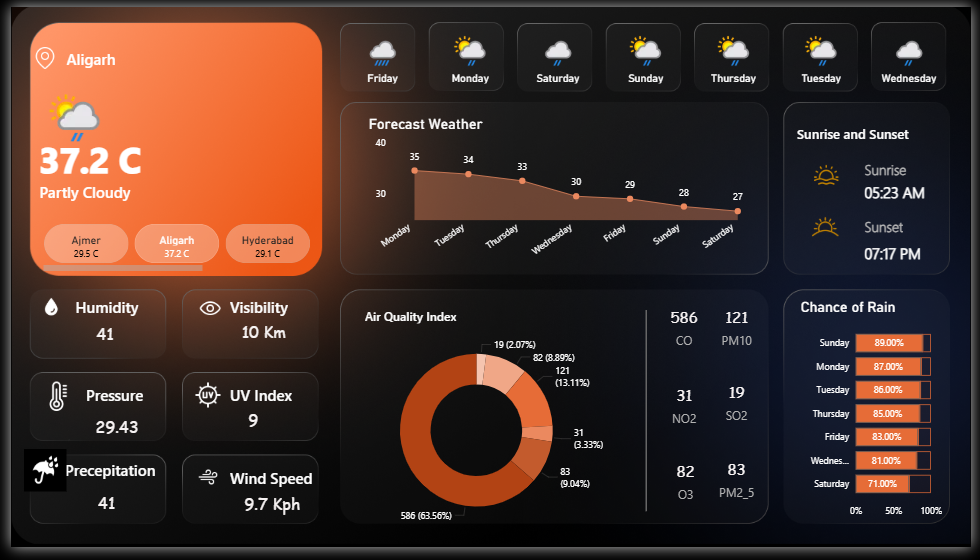

The page's visual inventory and layout, read from the dashboard file:
{"tool":"powerbi","page":{"name":"Page 1","canvas":[1280,720],"ordinal":0},"visuals":[{"type":"advancedSlicerVisual","fields":{"Values":["Locations.location.name"]},"box":[37.8,283.5,366.6,75.6],"z":0},{"type":"shape","box":[38.3,147,225.3,110.2],"z":1000},{"type":"shape","box":[38.3,215.7,365.9,60.7],"z":2000},{"type":"shape","box":[73.3,46.7,161.7,46.7],"z":3000},{"type":"image","box":[17.6,47.9,54.3,39.9],"z":4000},{"type":"cardVisual","fields":{"Data":["Min(current.current.condition.icon)"]},"box":[28.8,87.9,113.4,113.4],"z":5000},{"type":"image","box":[71.9,549.6,11.2,54.3],"z":6000},{"type":"image","box":[36.7,378.6,35.1,43.1],"z":7000},{"type":"image","box":[231.7,608.7,60.7,36.7],"z":8000},{"type":"image","box":[231.7,493.7,60.7,46.3],"z":9000},{"type":"shape","box":[86.3,375.5,161.4,46.3],"z":10000},{"type":"shape","box":[292.4,375.5,161.4,46.3],"z":11000},{"type":"shape","box":[100.7,493.7,161.4,46.3],"z":12000},{"type":"shape","box":[292.4,493.7,161.4,46.3],"z":13000},{"type":"shape","box":[71.9,594.3,161.4,46.3],"z":14000},{"type":"shape","box":[292.4,603.9,161.4,46.3],"z":15000},{"type":"image","box":[244.4,377.1,43.1,47.9],"z":16000},{"type":"card","fields":{"Values":["Sum(current.current.humidity)"]},"box":[86.3,402.6,78.3,68.7],"z":17000},{"type":"card","fields":{"Values":["measure.Visibility"]},"box":[287.6,399.4,97.5,68.7],"z":18000},{"type":"card","fields":{"Values":["Sum(current.current.pressure_in)"]},"box":[102.3,525.6,78.3,68.7],"z":19000},{"type":"card","fields":{"Values":["Sum(current.current.uv)"]},"box":[274.3,526,96.8,50],"z":20000},{"type":"card","fields":{"Values":["Sum(current.current.humidity)"]},"box":[87.9,627.9,78.3,68.7],"z":21000},{"type":"card","fields":{"Values":["measure.Wind_Speed"]},"box":[292.4,635.9,111.8,54.3],"z":22000},{"type":"image","box":[38.3,493.7,49.5,49.5],"z":23000},{"type":"advancedSlicerVisual","fields":{"Values":["forecast_day.Day_Name"]},"box":[436.7,26.7,826.7,116.7],"z":24000},{"type":"shape","box":[1048.1,147,206.1,46.3],"z":25000},{"type":"image","box":[1062.5,202.9,49.5,43.1],"z":26000},{"type":"image","box":[1048.1,263.6,75.1,57.5],"z":27000},{"type":"shape","box":[1137.5,271.6,108.6,39.9],"z":28000},{"type":"shape","box":[1137.5,199.7,108.6,32],"z":29000},{"type":"lineChart","title":"Forecast Weather","fields":{"Y":["Sum(forecast_day.forecast.forecastday.day.avgtemp_c)"],"Category":["forecast_day.Day_Name"]},"box":[472.5,143.8,530.4,199.8],"z":30000},{"type":"hundredPercentStackedBarChart","title":"Chance of Rain","fields":{"Y":["Sum(forecast_day.forecast.forecastday.day.daily_chance_of_rain)","current.Left_value_rain"],"Category":["forecast_day.Day_Name"]},"box":[1048.1,388.2,198.1,302],"z":31000},{"type":"shape","box":[1137.5,230.1,108.6,32],"z":32000},{"type":"shape","box":[1137.5,311.5,108.6,32],"z":33000},{"type":"shape","box":[472.9,388.2,206.1,46.3],"z":34000},{"type":"card","fields":{"Values":["Sum(current.current.air_quality.co)"]},"box":[848.3,391.7,98.3,68.3],"z":35000},{"type":"card","fields":{"Values":["Sum(current.current.air_quality.no2)"]},"box":[848.3,493.3,98.3,70],"z":36000},{"type":"card","fields":{"Values":["Sum(current.current.air_quality.o3)"]},"box":[850,595,98.3,70],"z":37000},{"type":"card","fields":{"Values":["Sum(current.current.air_quality.pm10)"]},"box":[918.3,391.7,98.3,68.3],"z":38000},{"type":"card","fields":{"Values":["Sum(current.current.air_quality.so2)"]},"box":[918.3,490,98.3,70],"z":39000},{"type":"card","fields":{"Values":["Sum(current.current.air_quality.pm2_5)"]},"box":[918.3,593.3,98.3,68.3],"z":40000},{"type":"shape","box":[581.7,403.3,530,268.3],"z":41000},{"type":"donutChart","fields":{"Y":["Sum(current.current.air_quality.so2)","Sum(current.current.air_quality.o3)","Sum(current.current.air_quality.pm10)","Sum(current.current.air_quality.no2)","Sum(current.current.air_quality.pm2_5)","Sum(current.current.air_quality.co)"]},"box":[436.7,413.3,368.3,300],"z":42000},{"type":"image","box":[11.2,581.6,67.1,71.9],"z":43000}]}

Visuals, with their boxes in screenshot pixels (x1, y1, x2, y2), scaled from the page's 1280x720 canvas onto the 980x560 screenshot:
advancedSlicerVisual - Locations.location.name: [29, 220, 310, 279]
shape: [29, 114, 202, 200]
shape: [29, 168, 309, 215]
shape: [56, 36, 180, 73]
image: [13, 37, 55, 68]
cardVisual - Min(current.current.condition.icon): [22, 68, 109, 157]
image: [55, 427, 64, 470]
image: [28, 294, 55, 328]
image: [177, 473, 224, 502]
image: [177, 384, 224, 420]
shape: [66, 292, 190, 328]
shape: [224, 292, 347, 328]
shape: [77, 384, 201, 420]
shape: [224, 384, 347, 420]
shape: [55, 462, 179, 498]
shape: [224, 470, 347, 506]
image: [187, 293, 220, 331]
card - Sum(current.current.humidity): [66, 313, 126, 367]
card - measure.Visibility: [220, 311, 295, 364]
card - Sum(current.current.pressure_in): [78, 409, 138, 462]
card - Sum(current.current.uv): [210, 409, 284, 448]
card - Sum(current.current.humidity): [67, 488, 127, 542]
card - measure.Wind_Speed: [224, 495, 309, 537]
image: [29, 384, 67, 422]
advancedSlicerVisual - forecast_day.Day_Name: [334, 21, 967, 112]
shape: [802, 114, 960, 150]
image: [813, 158, 851, 191]
image: [802, 205, 860, 250]
shape: [871, 211, 954, 242]
shape: [871, 155, 954, 180]
"Forecast Weather" lineChart: [362, 112, 768, 267]
"Chance of Rain" hundredPercentStackedBarChart: [802, 302, 954, 537]
shape: [871, 179, 954, 204]
shape: [871, 242, 954, 267]
shape: [362, 302, 520, 338]
card - Sum(current.current.air_quality.co): [649, 305, 725, 358]
card - Sum(current.current.air_quality.no2): [649, 384, 725, 438]
card - Sum(current.current.air_quality.o3): [651, 463, 726, 517]
card - Sum(current.current.air_quality.pm10): [703, 305, 778, 358]
card - Sum(current.current.air_quality.so2): [703, 381, 778, 436]
card - Sum(current.current.air_quality.pm2_5): [703, 461, 778, 515]
shape: [445, 314, 851, 522]
donutChart - Sum(current.current.air_quality.so2) x Sum(current.current.air_quality.o3): [334, 321, 616, 555]
image: [9, 452, 60, 508]
